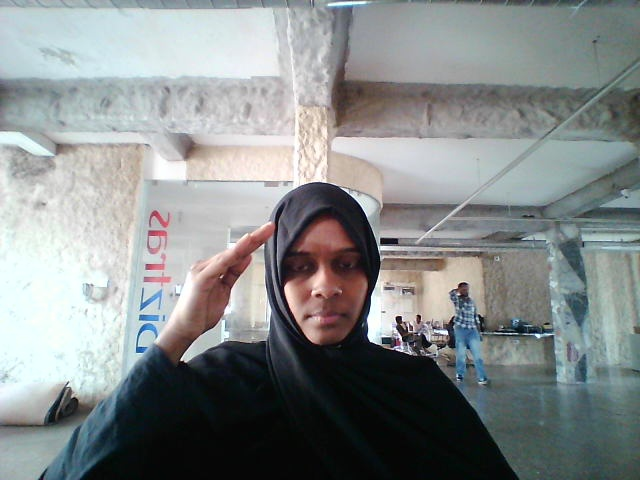HELLO: (110, 187, 275, 362)
